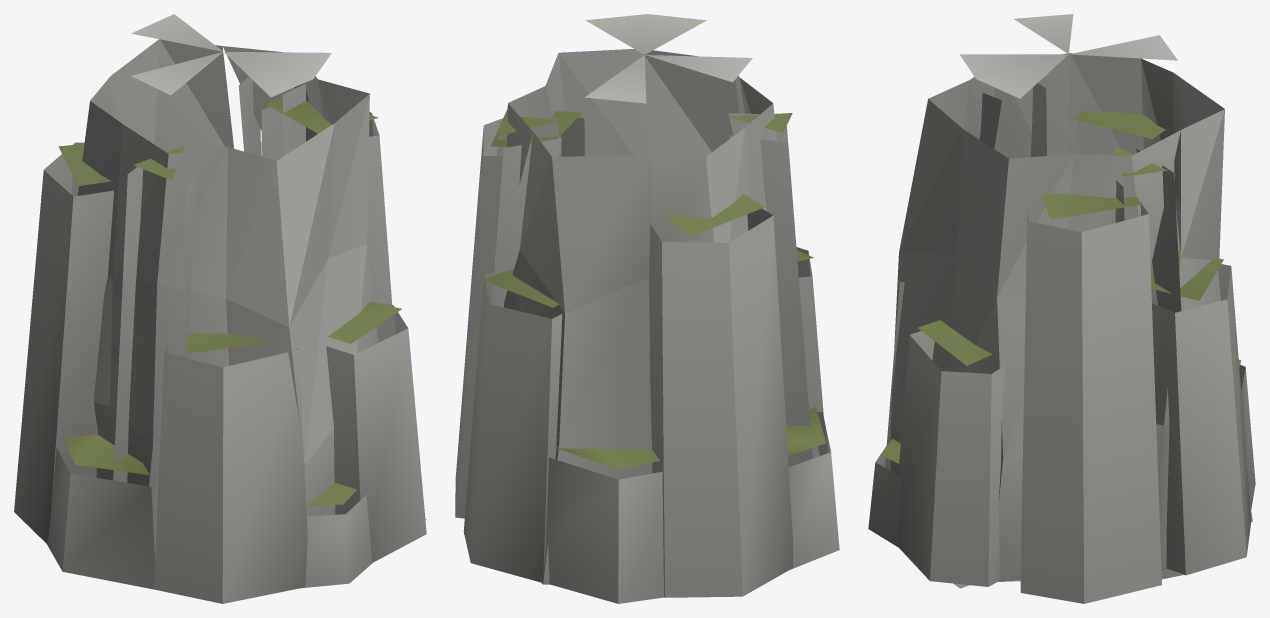
Rendered from karst.lod.glb.
3 renders of one model, left to right at view 1: azimuth 30°, elevation 25°; view 2: azimuth 150°, elevation 25°; view 3: azimuth 270°, elevation 25°, orthographic.
Visible parts, largest first — view 1: karst; view 2: karst; view 3: karst.
Boxes of the visible parts, <box> form: karst: <box>14,14,426,603</box>; karst: <box>455,14,839,603</box>; karst: <box>868,14,1255,603</box>.
Size of the model in its own units: 24.5 by 30.24 by 22.95.
